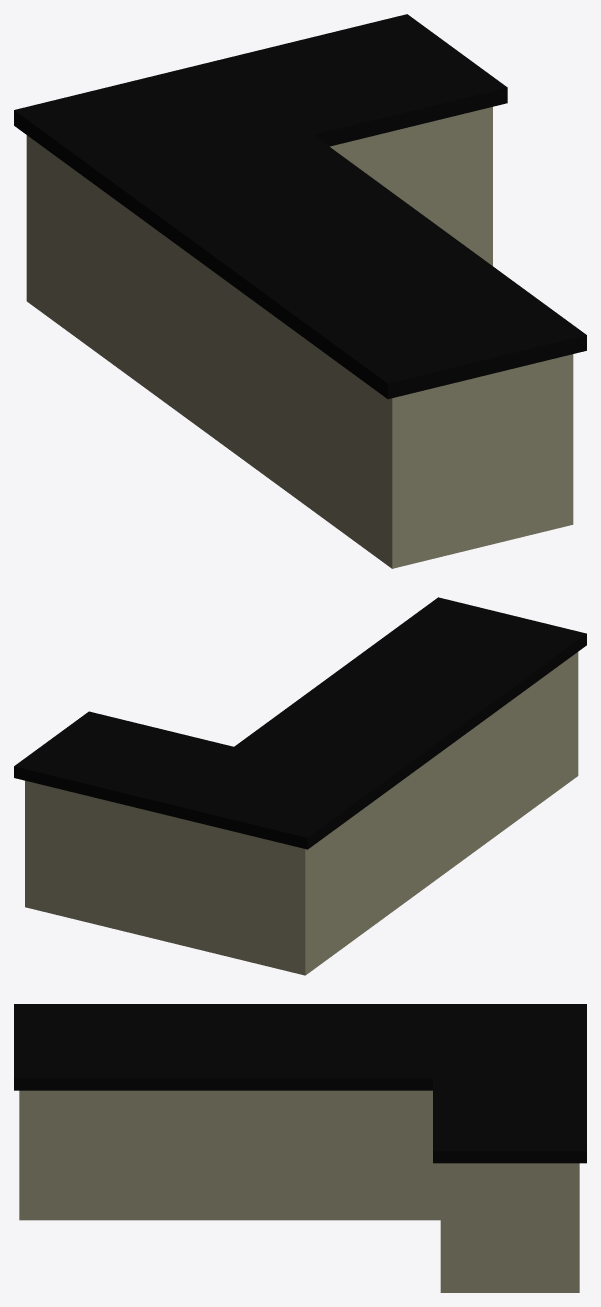
File: counter.fbx
3 renders of one model, top to bottom at view 1: azimuth 30°, elevation 25°; view 2: azimuth 150°, elevation 25°; view 3: azimuth 270°, elevation 25°, orthographic. The views are drawn at different scales.
Visible parts, largest first — view 1: Cube; view 2: Cube; view 3: Cube.
Boxes of the visible parts, left/top/right/bottom form: Cube: left=14, top=14, right=586, bottom=568; Cube: left=14, top=597, right=586, bottom=975; Cube: left=14, top=1004, right=586, bottom=1292.
Size of the model in its own units: 239 by 110 by 393.
